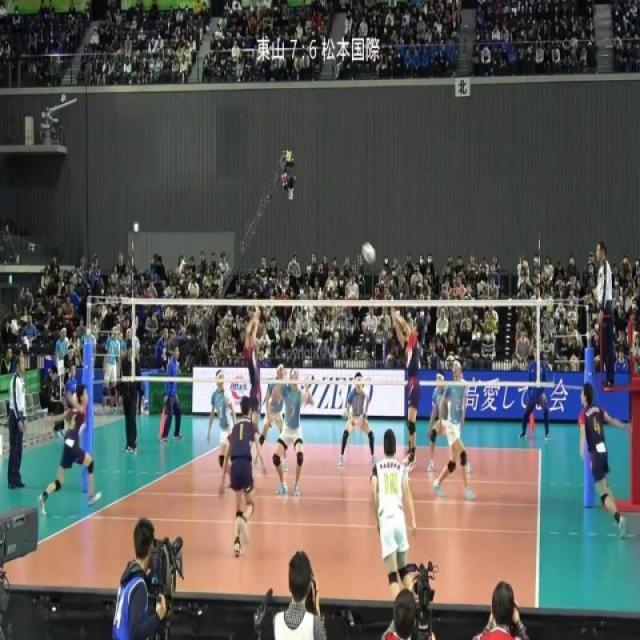volleyball: (361, 240, 376, 266)
